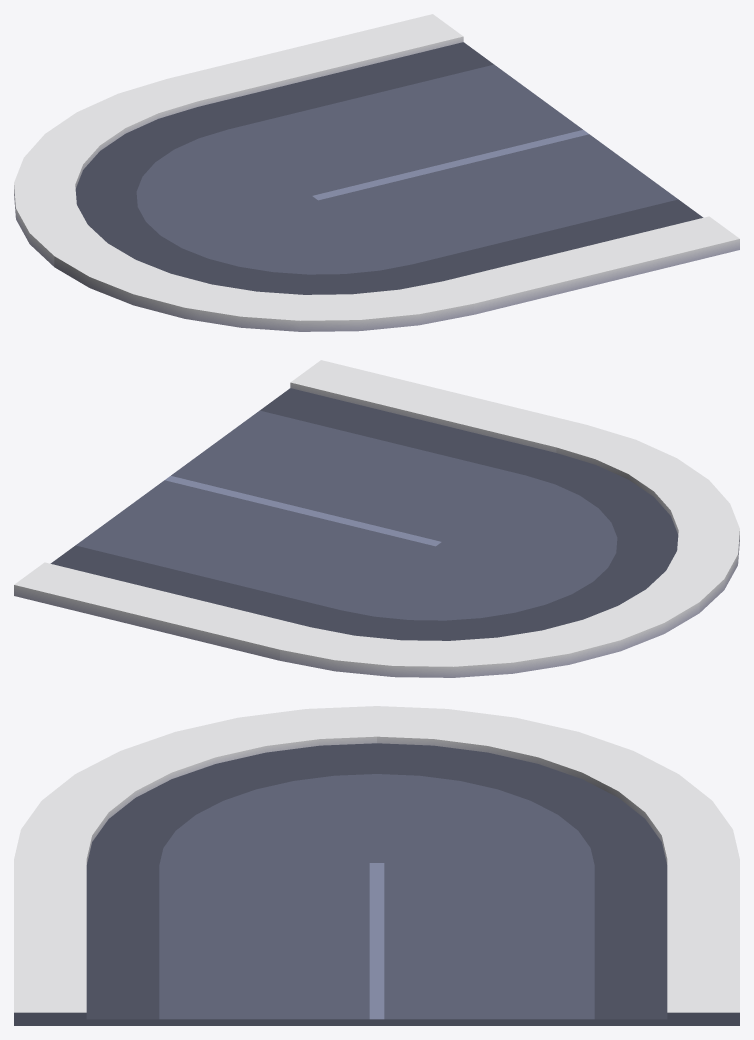
Rendered from road-end-round.gltf.
3 views of the same model, one above another, from view 1: azimuth 30°, elevation 25°; view 2: azimuth 150°, elevation 25°; view 3: azimuth 270°, elevation 25° (orthographic). The views are drawn at different scales.
Visible parts, largest first — view 1: road-end-round; view 2: road-end-round; view 3: road-end-round.
Part boxes in pixels (x1,y1,x2,y2): road-end-round: [14, 14, 739, 331]; road-end-round: [14, 360, 739, 677]; road-end-round: [14, 706, 739, 1025].
Bounding box in the file's own units: 1 × 0.02 × 1.
1 material, 1 textured.
